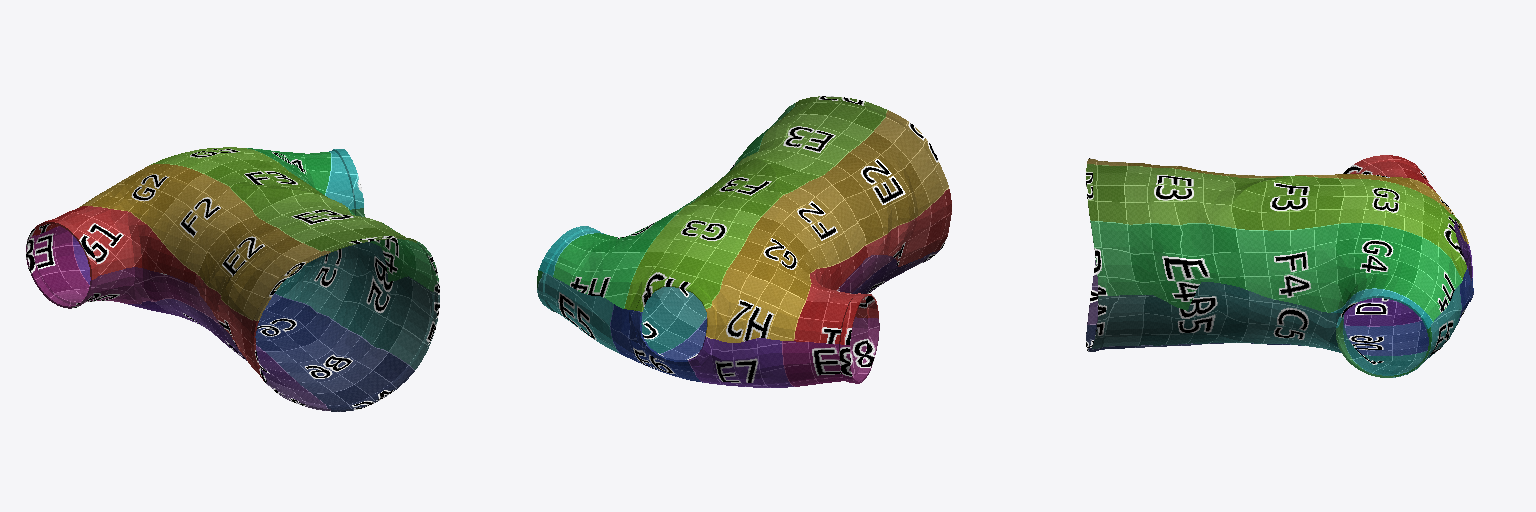
3 views of the same model, side by side, from view 1: azimuth 30°, elevation 25°; view 2: azimuth 150°, elevation 25°; view 3: azimuth 270°, elevation 25° (orthographic).
Visible parts, largest first — view 1: Tshirt_obj; view 2: Tshirt_obj; view 3: Tshirt_obj.
Part boxes in pixels (x1,y1,x2,y2): Tshirt_obj: (26,147,439,411); Tshirt_obj: (537,96,951,387); Tshirt_obj: (1086,155,1473,377).
Size of the model in its own units: 1.46 by 0.7492 by 1.57.
1 materials, 1 textured.